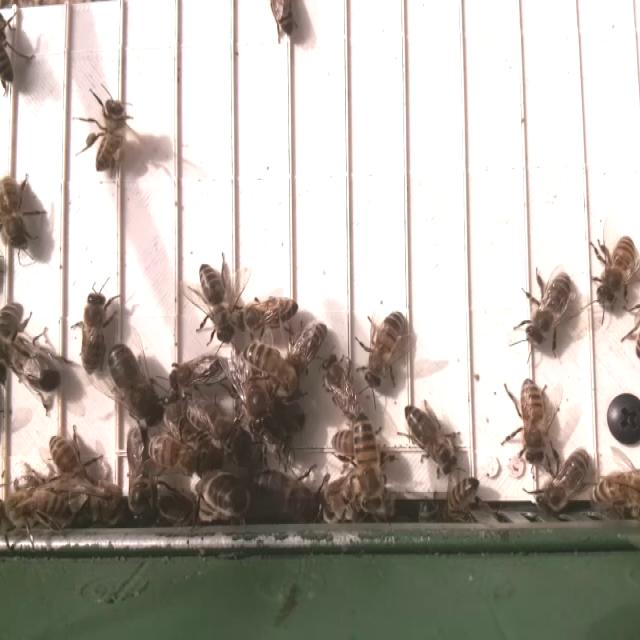Drone: (105, 339, 168, 431)
Worker: (404, 401, 458, 475), (364, 308, 410, 392), (524, 273, 573, 351), (196, 259, 237, 348), (594, 234, 636, 314), (352, 408, 381, 516), (90, 96, 127, 178), (518, 372, 547, 471), (78, 290, 110, 378), (236, 291, 301, 334), (0, 171, 30, 255)
